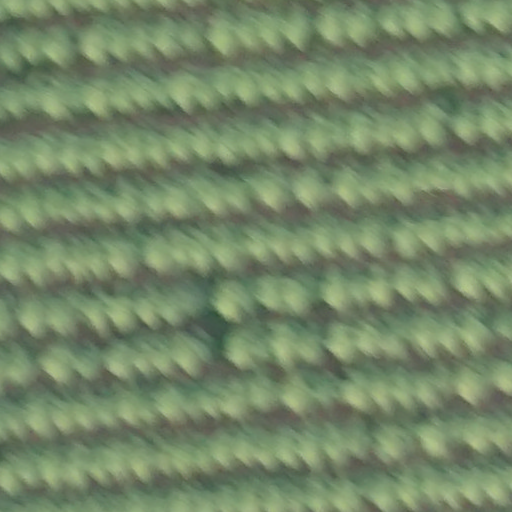eucalipto: (211, 277, 259, 322)
